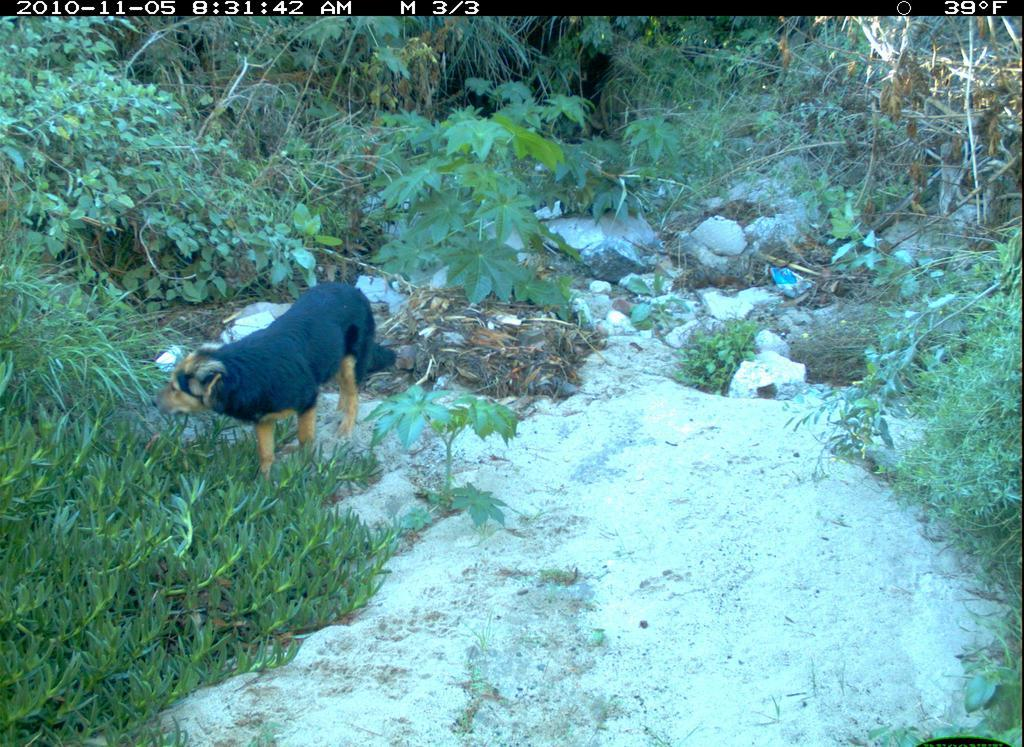dog: (149, 280, 408, 483)
